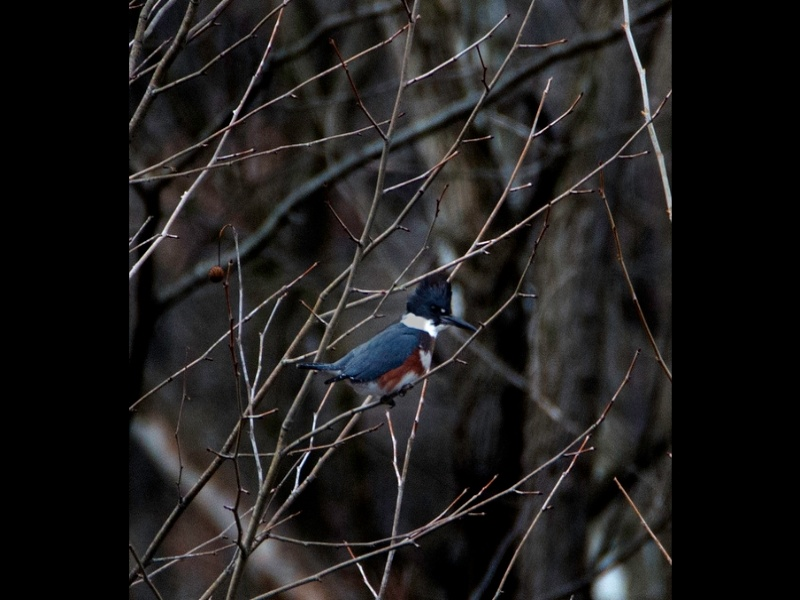kingfisher: (295, 268, 479, 413)
